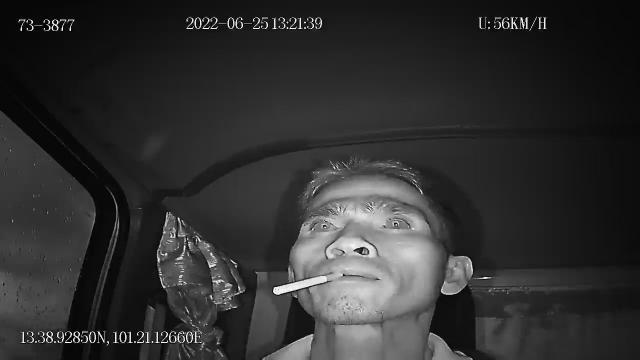SafeDriving: (375, 209, 415, 236), (302, 214, 341, 239)
Smoking: (272, 272, 344, 294)
